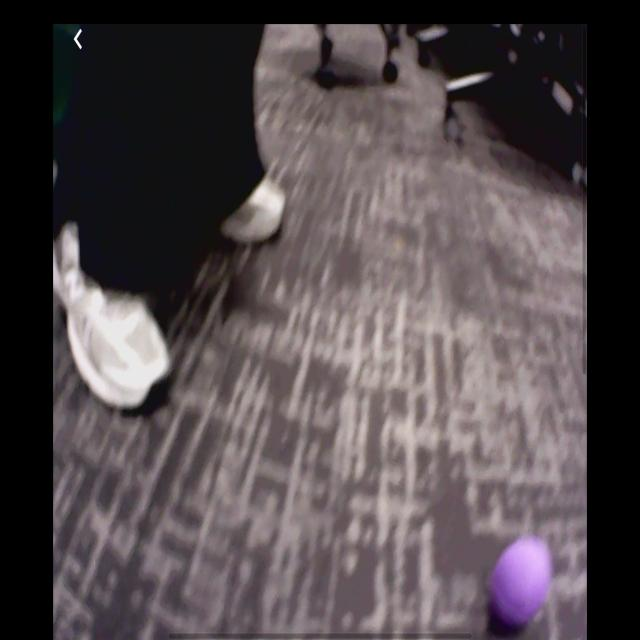ball: (492, 538, 553, 621)
